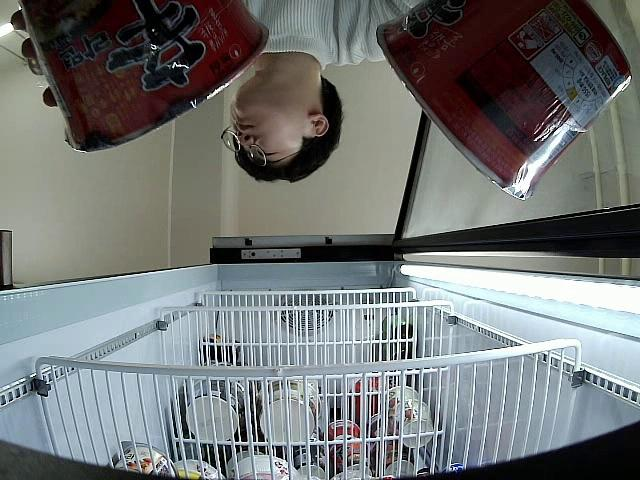01_shinRamen_L: (377, 2, 631, 200), (19, 0, 267, 152)
